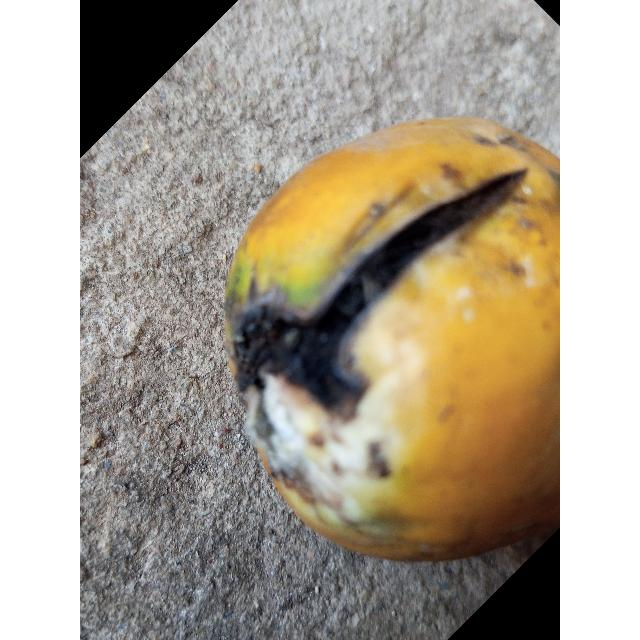damaged: (225, 118, 560, 560)
